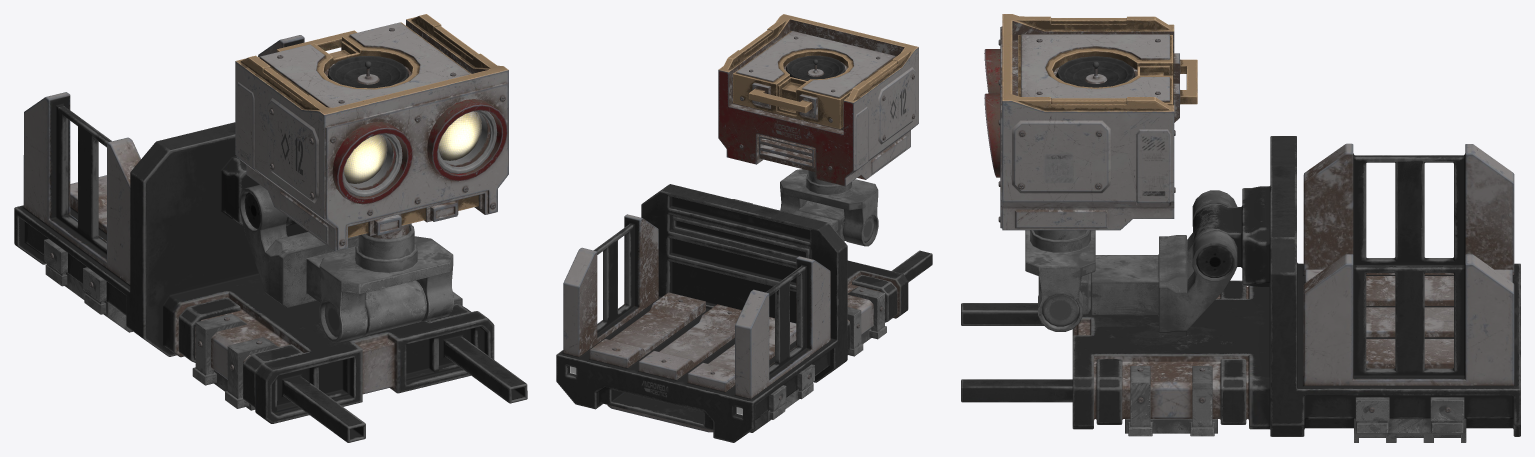
File: protobot.fbx
3 views of the same model, side by side, from view 1: azimuth 30°, elevation 25°; view 2: azimuth 150°, elevation 25°; view 3: azimuth 270°, elevation 25° (orthographic). The views are drawn at different scales.
Parts seen in each view (by area): view 1: Hull, Head, M3, M1, Thrusters, M2; view 2: Hull, Head, M3, Thrusters, M2; view 3: Hull, Head, M1, Thrusters, M3, M2.
Part boxes in pixels (<box>): Hull: <box>14,35,527,442</box>; Head: <box>235,14,508,251</box>; M3: <box>319,224,453,342</box>; M1: <box>239,184,358,307</box>; Thrusters: <box>44,239,462,410</box>; M2: <box>324,280,426,337</box>; Hull: <box>556,184,932,442</box>; Head: <box>718,14,918,186</box>; M3: <box>780,169,878,246</box>; Thrusters: <box>749,286,886,432</box>; M2: <box>798,200,874,242</box>; Hull: <box>961,136,1520,436</box>; Head: <box>984,14,1197,230</box>; M1: <box>1091,190,1237,335</box>; Thrusters: <box>1125,366,1466,442</box>; M3: <box>1025,230,1095,331</box>; M2: <box>1038,273,1090,326</box>.
Bounding box in the file's own units: 72.49 × 89.39 × 135.
